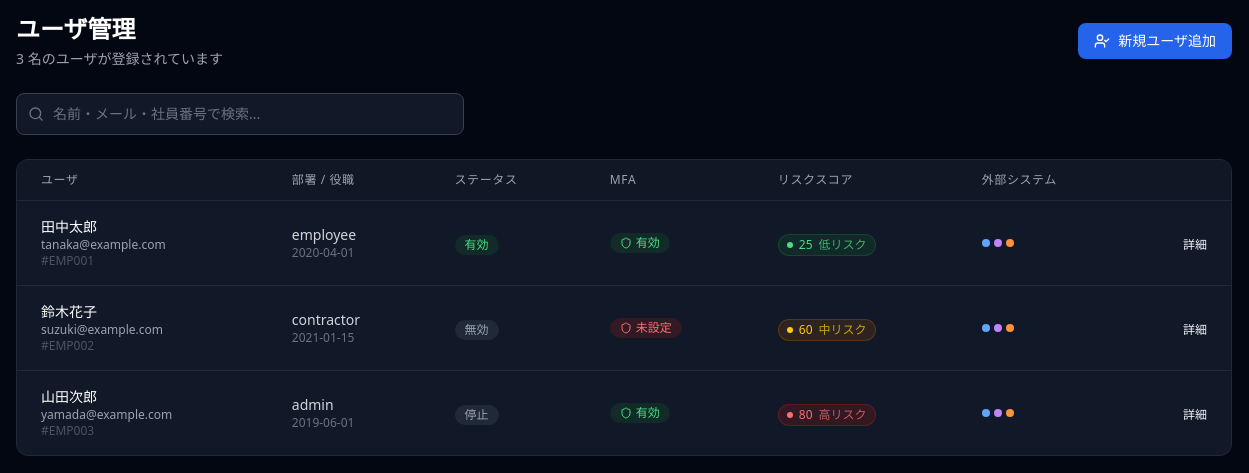
Test case: UsersPage › 検索でフィルタリングされる
The width and height of the screenshot is (1249, 473).
Type "田中" into the field with placeholder "名前・メール・社員番号で検索..." at (240, 114), box [16,93,464,135]
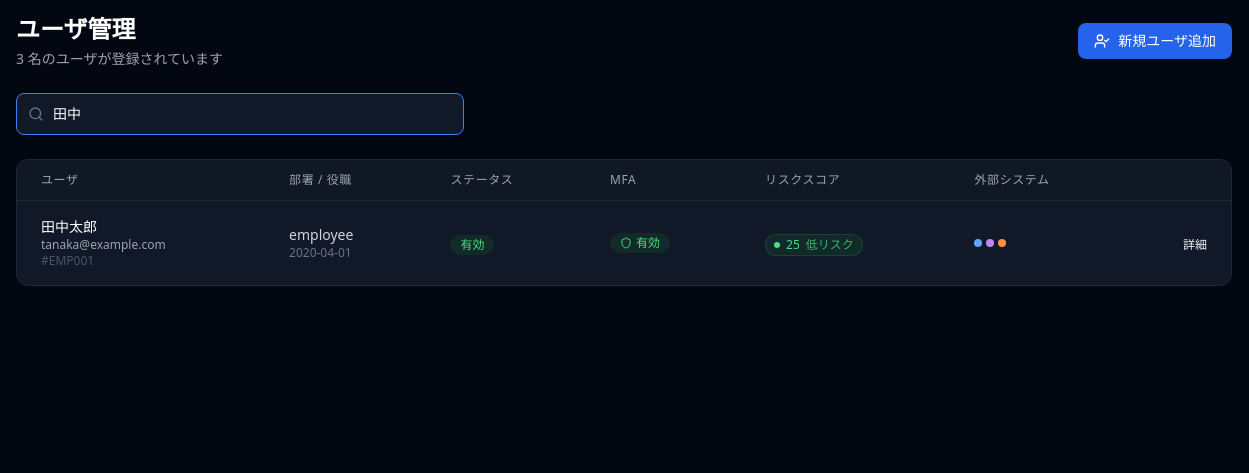
Check: the text "田中太郎" is shown, box [41,217,97,236]
Check: the text "鈴木花子" is gone
Check: the text "山田次郎" is gone
